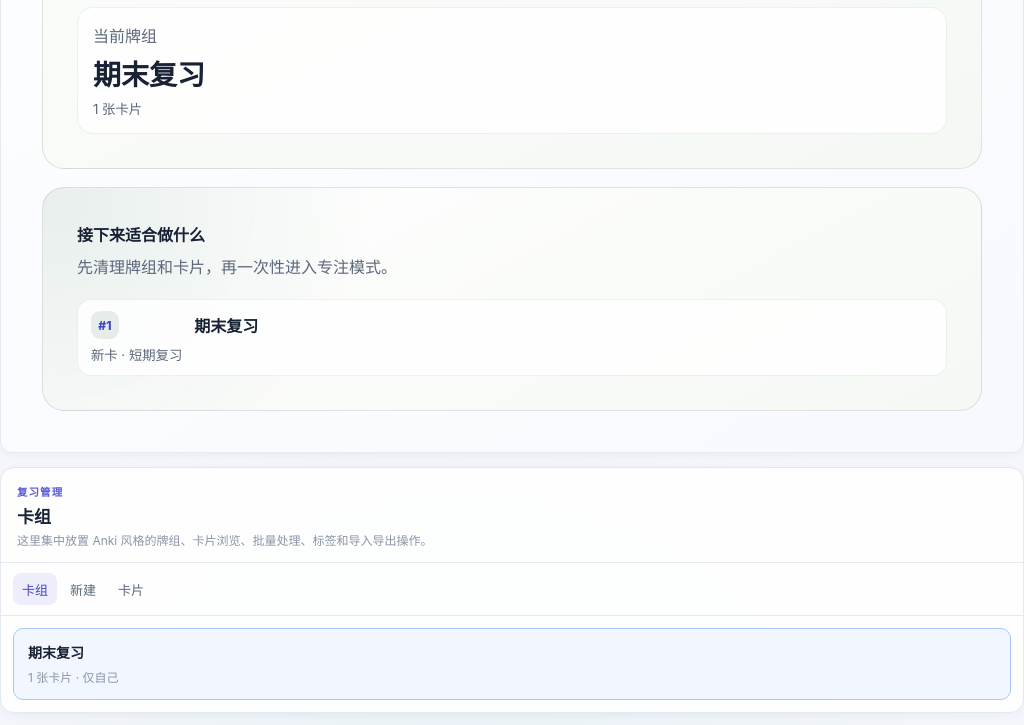
Scenario: ReviewWorkspacePage › renders the review workspace first and exposes Anki-style operations before focus mode
The image size is (1024, 725).
(page scrolled)
What coordinates should you click on to do the following:
click the button "卡片"
I would click on:
 (131, 589)
Its box is [109,573,153,605].
(page scrolled)
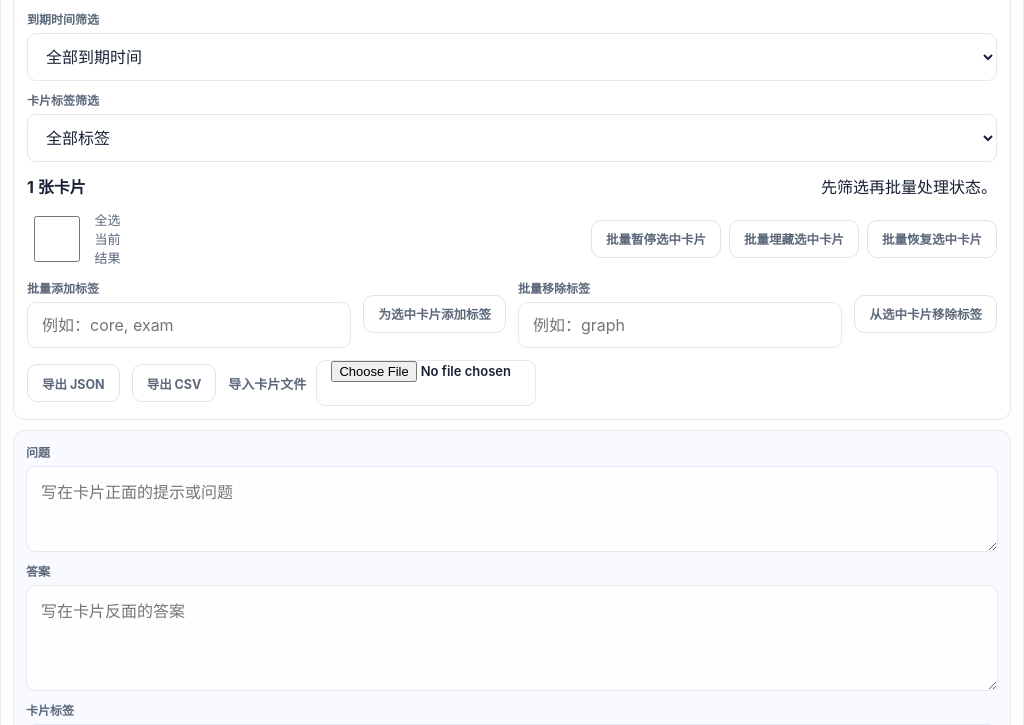
Expected: the button "批量暂停选中卡片" is shown, [591,220,721,258]
Expected: the button "导出 JSON" is shown, [27,364,120,402]
Expected: the file field labelled "导入卡片文件" is shown, [316,360,536,406]
